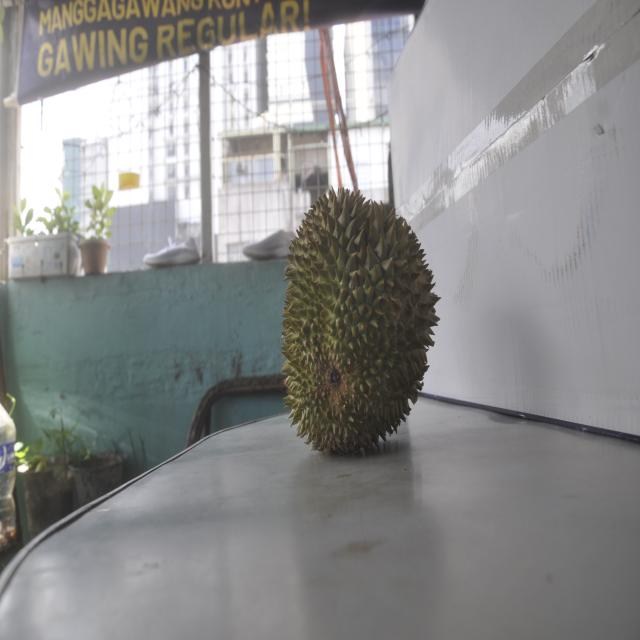mature: (282, 185, 431, 454)
